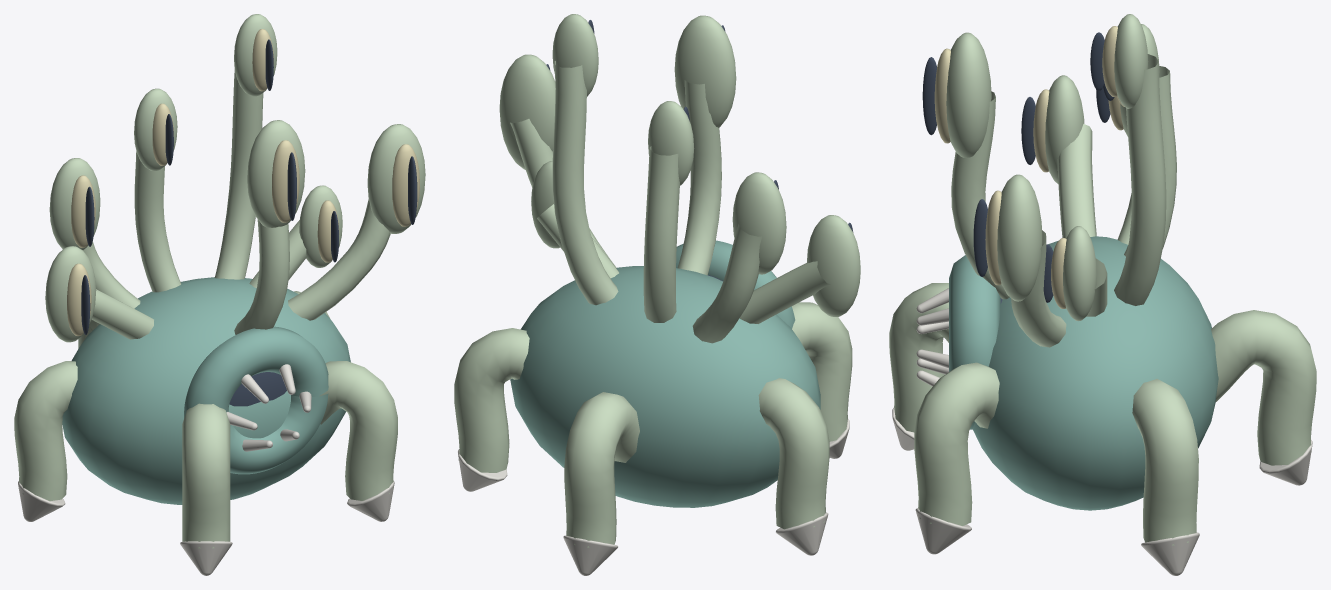
The model's file is bio_eye_orchard_03_near.glb.
The picture shows the model from 3 angles, left to right: view 1: azimuth 30°, elevation 25°; view 2: azimuth 150°, elevation 25°; view 3: azimuth 270°, elevation 25°; orthographic projection. The views are drawn at different scales.
Visible parts, largest first — view 1: Rooted muscular caudex, Raised oral lip, Asymmetric ocular branch.005, Crooked support.004, Asymmetric ocular branch.003, Asymmetric ocular branch.002, Crooked support.003, Crooked support.002, Asymmetric ocular branch.006, Asymmetric ocular branch.004, Asymmetric ocular branch.001, Asymmetric ocular branch (+14 smaller); view 2: Rooted muscular caudex, Asymmetric ocular branch.002, Asymmetric ocular branch.003, Crooked support.001, Asymmetric ocular branch.006, Crooked support, Crooked support.002, Asymmetric ocular branch.001, Asymmetric ocular branch.004, Asymmetric ocular branch.005, Crooked support.003, Asymmetric ocular branch (+4 smaller); view 3: Rooted muscular caudex, Crooked support.001, Asymmetric ocular branch.003, Crooked support.004, Crooked support, Asymmetric ocular branch.002, Asymmetric ocular branch.005, Asymmetric ocular branch.004, Crooked support.003, Raised oral lip, Asymmetric ocular branch, Asymmetric ocular branch.006 (+13 smaller).
Part boxes in pixels (x1,y1,x2,y2): Rooted muscular caudex: (62,277,350,504); Raised oral lip: (184,326,328,474); Asymmetric ocular branch.005: (288,124,425,320); Crooked support.004: (319,361,397,500); Asymmetric ocular branch.003: (214,14,277,279); Asymmetric ocular branch.002: (234,120,305,334); Crooked support.003: (182,403,230,548); Crooked support.002: (14,361,77,501); Asymmetric ocular branch.006: (134,88,181,292); Asymmetric ocular branch.004: (45,246,153,342); Asymmetric ocular branch.001: (49,158,140,308); Asymmetric ocular branch: (249,185,342,287); Rooted muscular caudex: (510,266,820,507); Asymmetric ocular branch.002: (674,15,736,275); Asymmetric ocular branch.003: (552,14,618,305); Crooked support.001: (564,392,639,547); Asymmetric ocular branch.006: (643,101,694,322); Crooked support: (454,328,529,472); Crooked support.002: (758,378,829,529); Asymmetric ocular branch.001: (692,172,786,343); Asymmetric ocular branch.004: (739,215,860,323); Asymmetric ocular branch.005: (499,54,616,267); Crooked support.003: (792,302,852,441); Asymmetric ocular branch: (531,161,618,278); Rooted muscular caudex: (973,236,1218,510); Crooked support.001: (1211,310,1316,465); Asymmetric ocular branch.003: (1114,14,1166,305); Crooked support.004: (914,362,999,525); Crooked support: (1132,379,1198,545); Asymmetric ocular branch.002: (946,32,1009,299); Asymmetric ocular branch.005: (997,174,1066,347); Asymmetric ocular branch.004: (1045,75,1096,238); Crooked support.003: (889,283,948,432); Raised oral lip: (949,255,1000,429); Asymmetric ocular branch: (1063,226,1107,321); Asymmetric ocular branch.006: (1124,24,1176,256).
Bounding box in the file's own units: 1.63 × 1.97 × 1.48.
